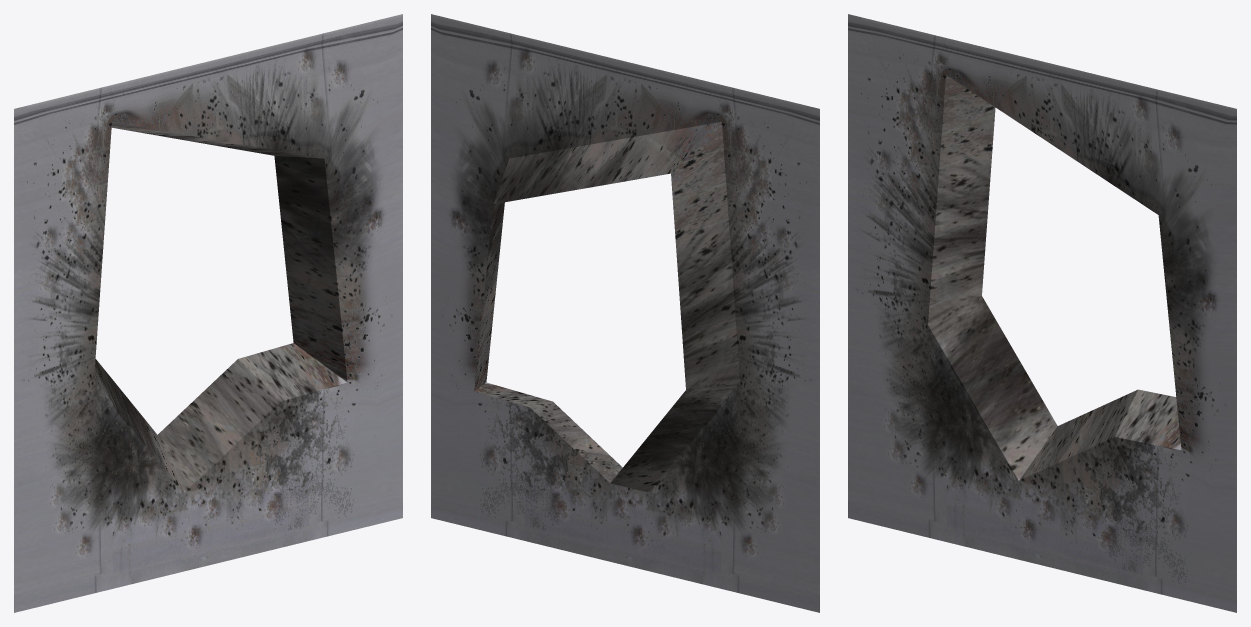
The model's file is loch.obj.
The picture shows the model from 3 angles, left to right: view 1: azimuth 30°, elevation 25°; view 2: azimuth 150°, elevation 25°; view 3: azimuth 330°, elevation 25°; orthographic projection.
Visible parts, largest first — view 1: polySurface181; view 2: polySurface181; view 3: polySurface181.
Boxes of the visible parts, bbox=[...] form: polySurface181: bbox=[14, 14, 402, 612]; polySurface181: bbox=[431, 14, 819, 612]; polySurface181: bbox=[848, 14, 1236, 612].
Bounding box in the file's own units: 0.9666 × 1.2 × 0.1425.
1 material, 1 textured.
